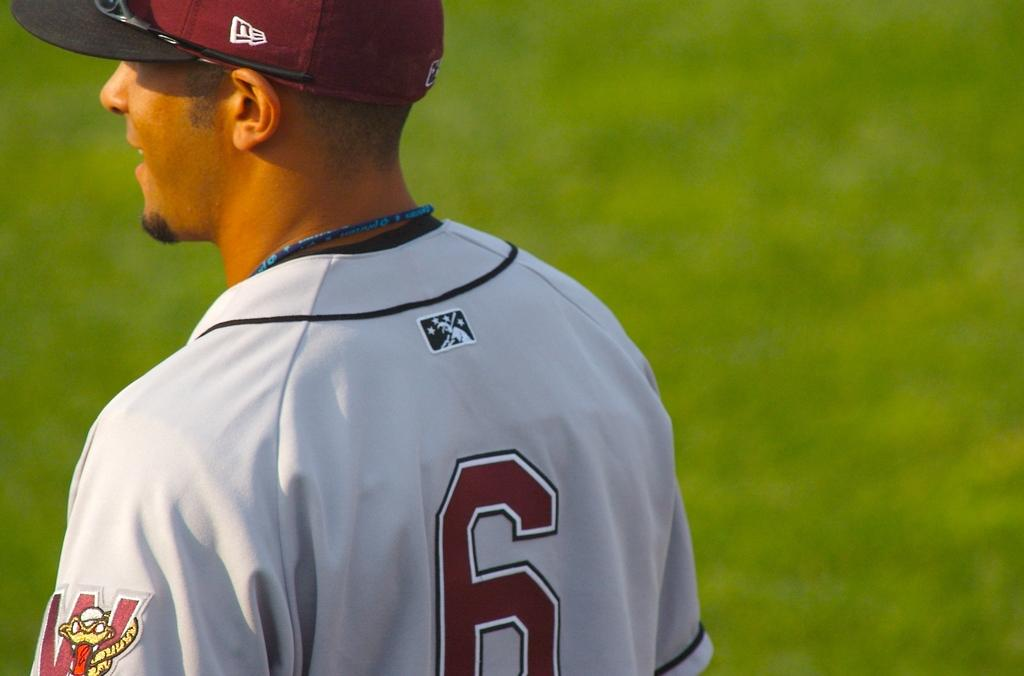Hat: (9, 0, 445, 103)
